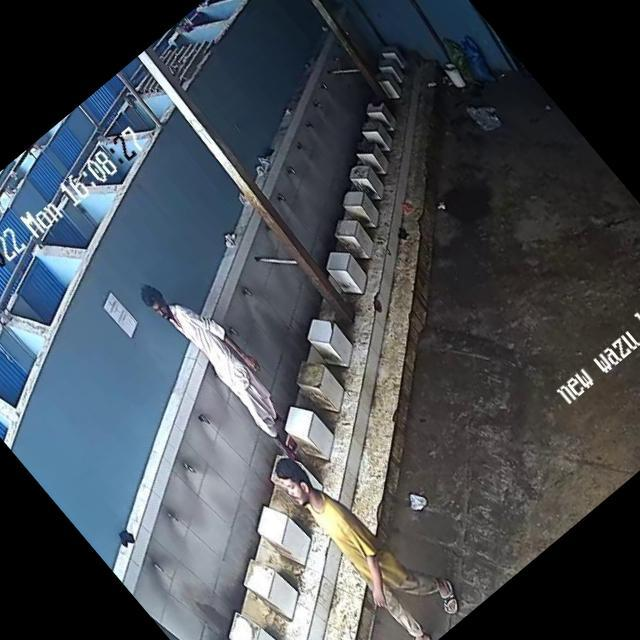person: (270, 434, 452, 636), (132, 262, 300, 452)
